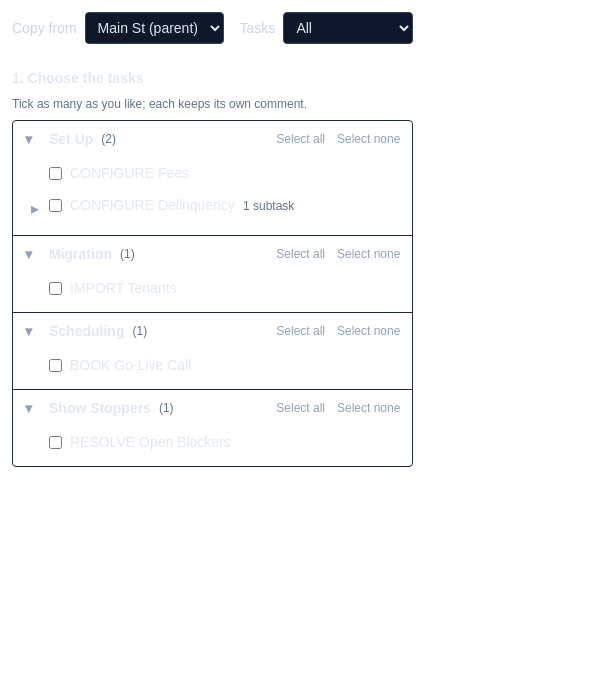
Test case: BulkCopyPanel › does not let a facility whose list could not be read be picked, and says why
What coordinates should you click on to do the following:
click the checkbox named "Copy from CONFIGURE Fees"
I would click on:
 (56, 174)
Its box is [49,167,62,180].
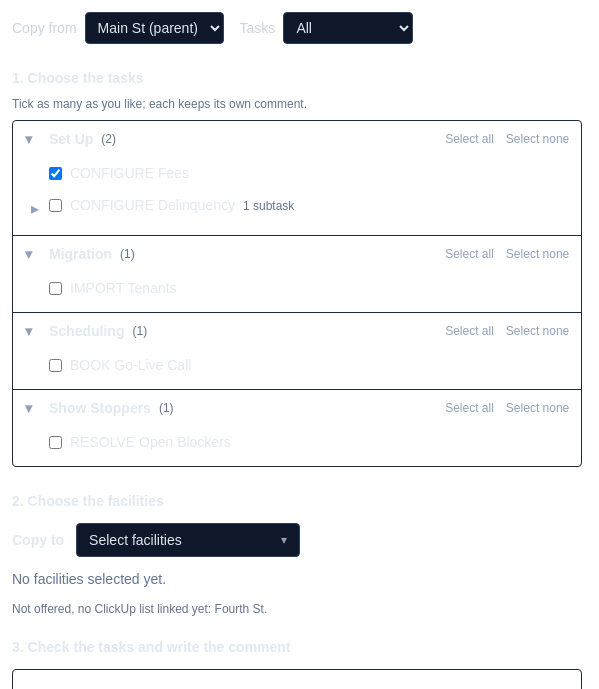
Expected: the button "Select facilities ▾" is shown
What coordinates should you click on to do the following:
click the button "Select facilities ▾"
I would click on:
 (188, 540)
Its box is [76,523,300,557].
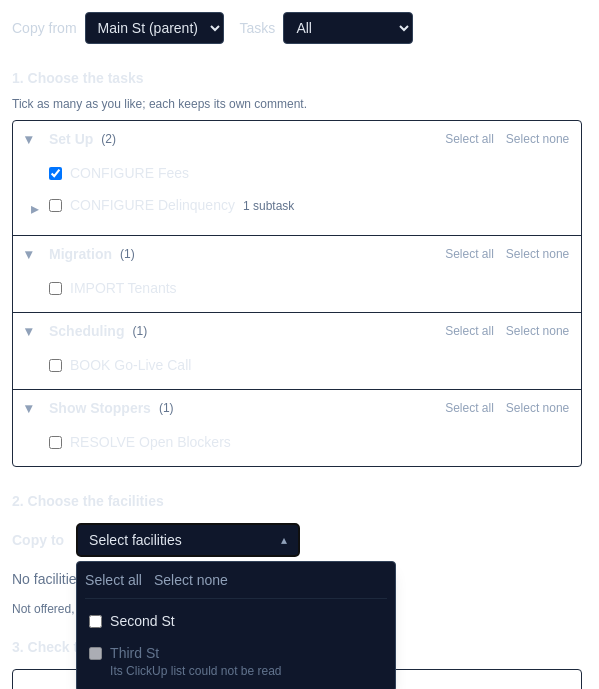
Expected: the checkbox named "Copy to Third St" is disabled, [89,647,102,660]
Expected: the text "Its ClickUp list could not be read" is shown, [110,663,282,679]
What coordinates should you click on to do the following:
click the button "Select all" next to "No facilities selected yet."
I would click on:
 (114, 580)
Its box is [85,570,142,590].
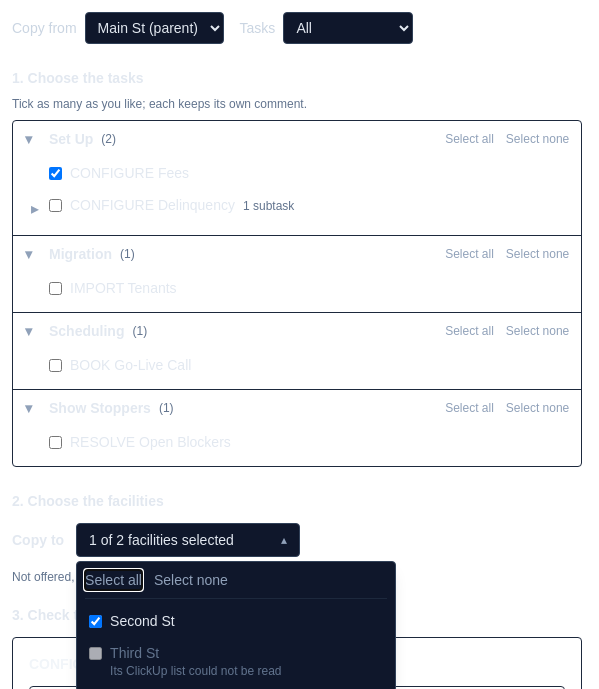
Expected: the checkbox named "Copy to Third St" is not checked, [89,647,102,660]
Expected: the checkbox named "Copy to Second St" is checked, [89,615,102,628]
